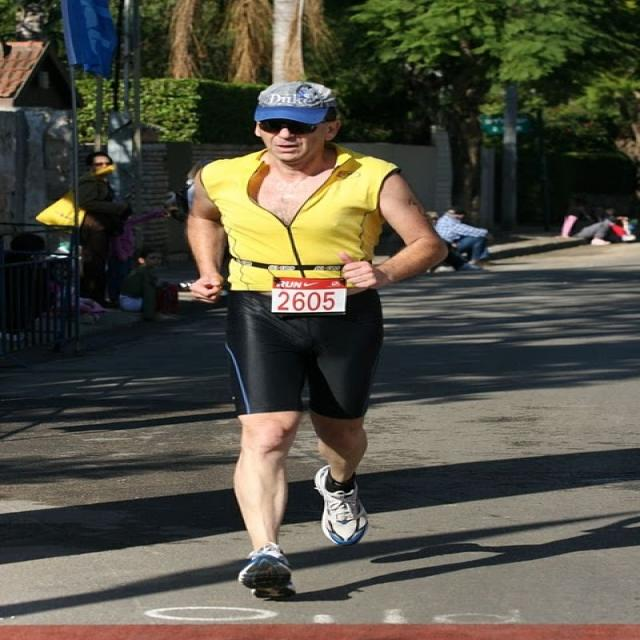Bib: (274, 292, 342, 316)
